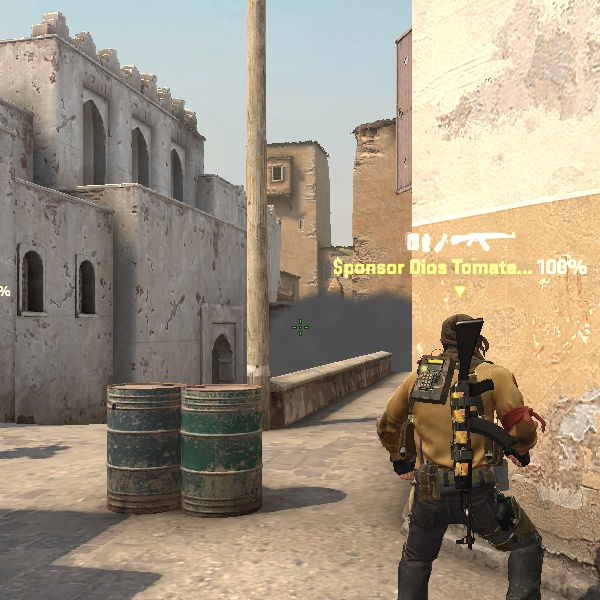t_body: (360, 313, 563, 600)
t_head: (421, 315, 492, 398)
